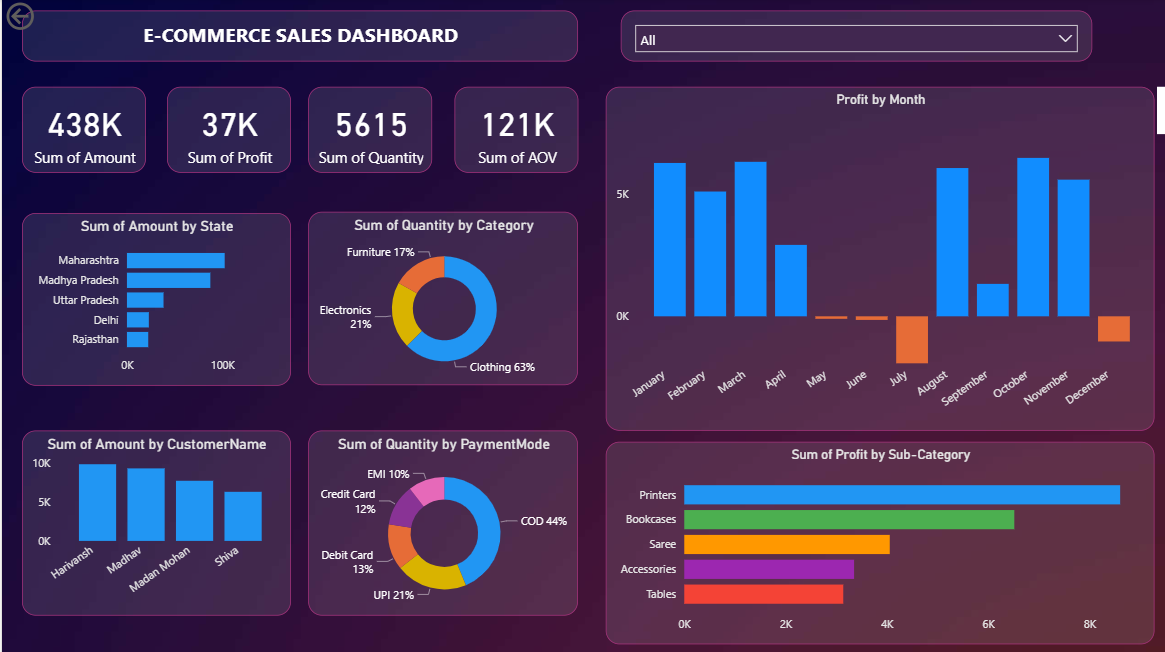

Layout of this report page (visuals, bound fields, positions):
{"tool":"powerbi","page":{"name":"Page 1","canvas":[1280,720],"ordinal":0},"visuals":[{"type":"textbox","box":[22,13.7,610.6,56.3],"z":0},{"type":"columnChart","title":"Profit by Month","fields":{"Y":["Sum(Details.Profit)"],"Category":["Orders.Order Date.Variation.Date Hierarchy.Month"]},"box":[662.8,97.4,602.4,377.4],"z":1000},{"type":"qnaVisual","box":[1267.4,97.7,12.8,52.3],"z":2000},{"type":"barChart","fields":{"Category":["Details.Sub-Category"],"Y":["Sum(Details.Profit)"]},"box":[662.8,487.1,602.4,222.3],"z":3000},{"type":"donutChart","fields":{"Category":["Details.Category"],"Y":["Sum(Details.Quantity)"]},"box":[336.2,234.6,296.4,190.7],"z":4000},{"type":"donutChart","fields":{"Y":["Sum(Details.Quantity)"],"Category":["Details.PaymentMode"]},"box":[336.2,474.8,296.4,203.1],"z":5000},{"type":"card","fields":{"Values":["Sum(Details.Amount)"]},"box":[22,97.4,135.8,94.7],"z":6000},{"type":"card","fields":{"Values":["Sum(Details.Quantity)"]},"box":[336.2,97.4,135.8,94.7],"z":7000},{"type":"card","fields":{"Values":["Sum(Details.Profit)"]},"box":[181.1,97.4,135.8,94.7],"z":8000},{"type":"card","fields":{"Values":["Sum(Details.AOV)"]},"box":[496.7,97.4,135.8,94.7],"z":9000},{"type":"barChart","fields":{"Category":["Orders.State"],"Y":["Sum(Details.Amount)"]},"box":[22,236,295,189.4],"z":10000},{"type":"columnChart","fields":{"Category":["Orders.CustomerName"],"Y":["Sum(Details.Amount)"]},"box":[22,475,295,203],"z":11000},{"type":"slicer","fields":{"Values":["Orders.State"]},"box":[679.9,14.2,517.3,55.8],"z":12000},{"type":"actionButton","box":[0,0,100,40],"z":13000}]}

Visuals, with their boxes in screenshot pixels (x1, y1, x2, y2), scaled from the page's 1280x720 canvas onto the 1165x652 screenshot:
textbox: crop(20, 12, 576, 63)
"Profit by Month" columnChart: crop(603, 88, 1152, 430)
qnaVisual: crop(1154, 88, 1164, 136)
barChart - Details.Sub-Category x Sum(Details.Profit): crop(603, 441, 1152, 642)
donutChart - Details.Category x Sum(Details.Quantity): crop(306, 212, 576, 385)
donutChart - Sum(Details.Quantity) x Details.PaymentMode: crop(306, 430, 576, 614)
card - Sum(Details.Amount): crop(20, 88, 144, 174)
card - Sum(Details.Quantity): crop(306, 88, 430, 174)
card - Sum(Details.Profit): crop(165, 88, 288, 174)
card - Sum(Details.AOV): crop(452, 88, 576, 174)
barChart - Orders.State x Sum(Details.Amount): crop(20, 214, 289, 385)
columnChart - Orders.CustomerName x Sum(Details.Amount): crop(20, 430, 289, 614)
slicer - Orders.State: crop(619, 13, 1090, 63)
actionButton: crop(0, 0, 91, 36)
